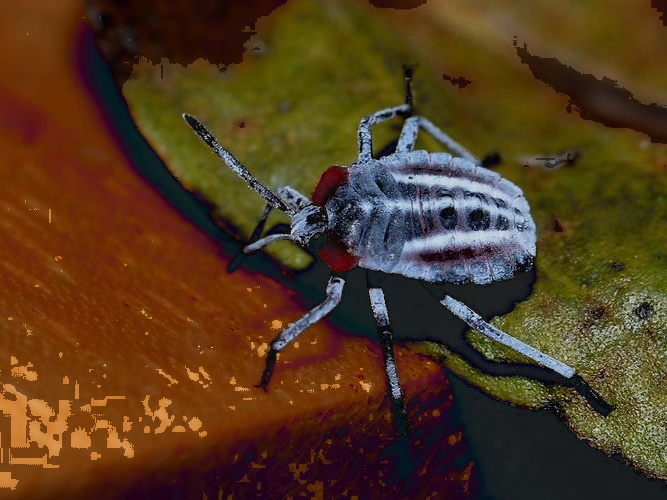Stink_Bug: (234, 127, 531, 311)
